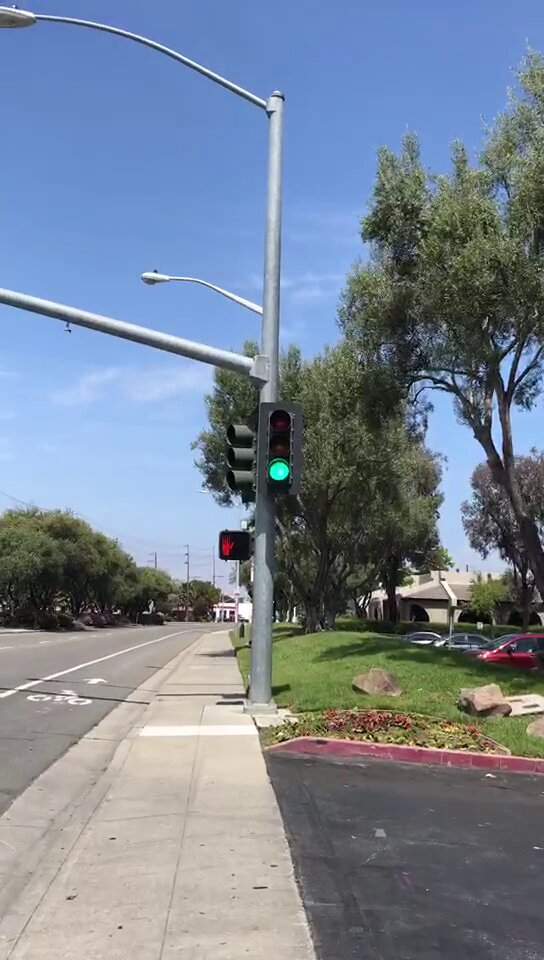green_light: (258, 403, 302, 489)
